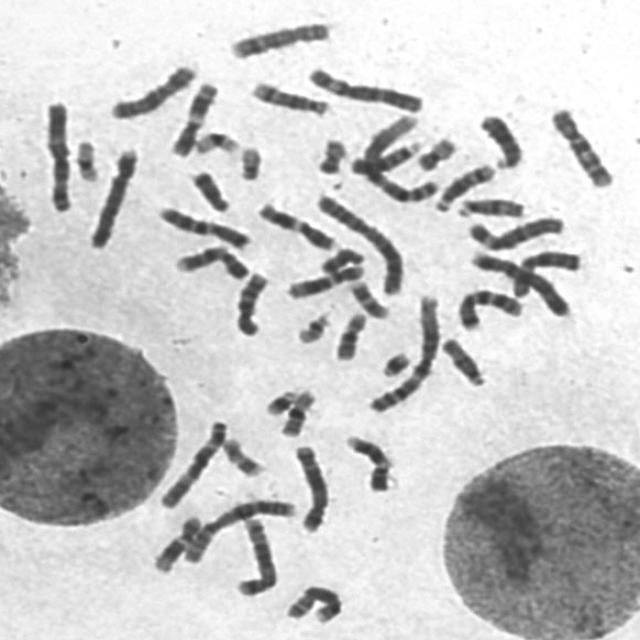A1: (364, 289, 443, 416), (356, 109, 443, 205)
A2: (309, 189, 407, 298), (177, 493, 300, 566)
A3: (154, 415, 230, 510), (38, 95, 77, 214)
B4: (464, 246, 575, 319), (82, 142, 141, 251)
B5: (230, 512, 281, 598), (287, 439, 333, 534)
C10: (544, 101, 618, 190), (228, 267, 272, 339)
C11: (252, 197, 340, 252), (166, 75, 222, 159)
C12: (147, 510, 206, 576), (282, 260, 368, 300)
C6: (301, 62, 428, 115), (462, 210, 567, 252)
C7: (152, 201, 254, 252), (452, 283, 527, 332)
C8: (224, 16, 336, 60), (282, 579, 346, 626)
C9: (340, 429, 396, 493), (169, 241, 252, 282)
D13: (473, 107, 527, 171), (344, 136, 425, 176)
D14: (429, 157, 498, 214), (245, 75, 333, 118)
D15: (436, 332, 490, 388), (451, 192, 529, 220)
E16: (276, 384, 320, 439), (328, 307, 371, 363)
E17: (343, 274, 393, 321), (217, 433, 268, 479)
E18: (185, 166, 233, 214), (317, 242, 367, 275)
F19: (189, 127, 242, 157), (70, 135, 102, 184)
F20: (410, 131, 460, 173), (311, 133, 351, 176)
G21: (376, 345, 416, 379), (260, 384, 300, 418)
G22: (290, 307, 334, 346), (233, 140, 265, 183)
X: (105, 59, 200, 121), (507, 246, 585, 298)
